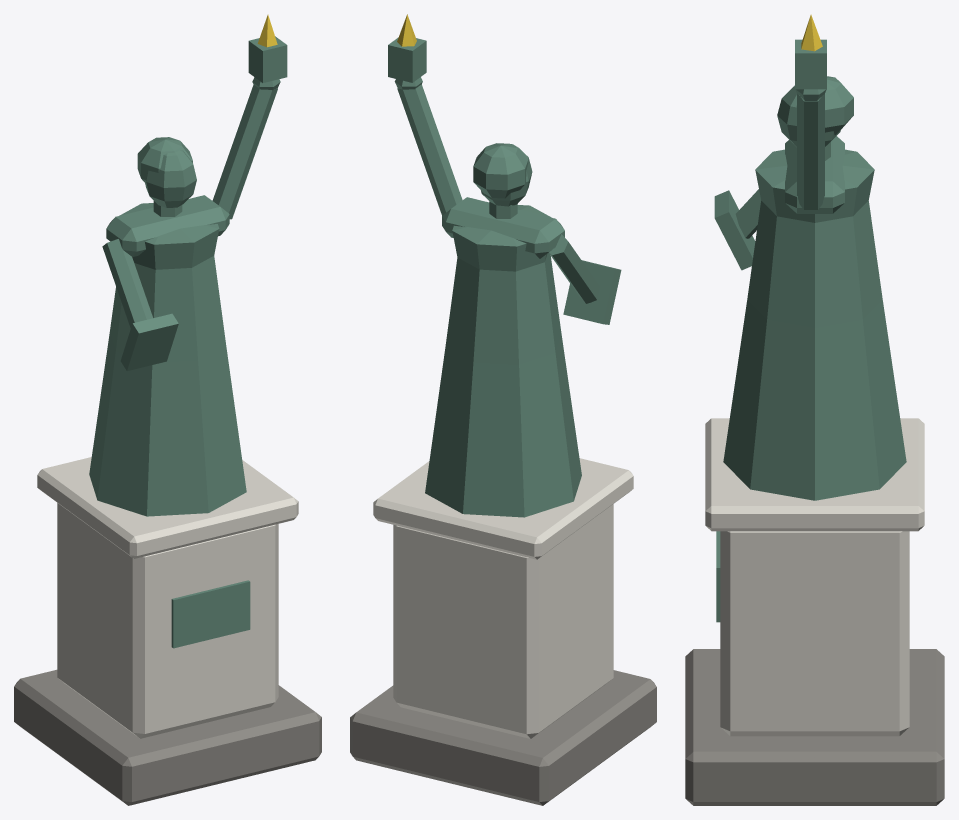
File: statue.glb
3 views of the same model, side by side, from view 1: azimuth 30°, elevation 25°; view 2: azimuth 150°, elevation 25°; view 3: azimuth 270°, elevation 25° (orthographic). The views are drawn at different scales.
Visible parts, largest first — view 1: statue; view 2: statue; view 3: statue.
Boxes of the visible parts, x1=… form: statue: x1=14, y1=14, x2=321, y2=805; statue: x1=350, y1=14, x2=656, y2=805; statue: x1=685, y1=14, x2=944, y2=805.
Size of the model in its own units: 1.37 by 4.4 by 1.3.
